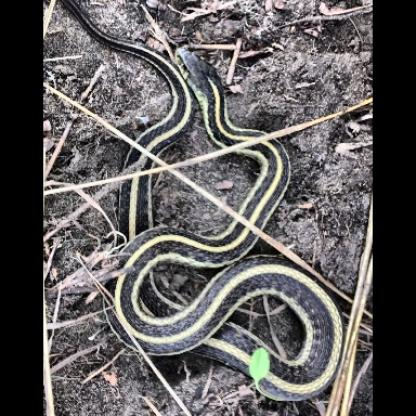Snake: (81, 21, 344, 408)
